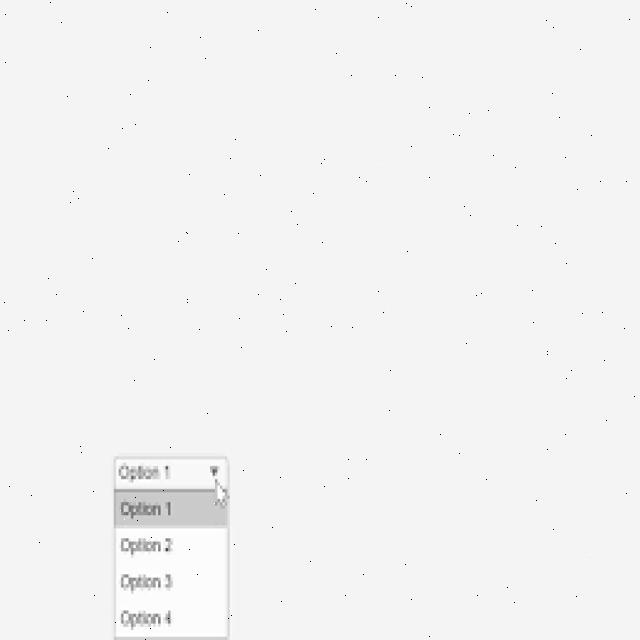dropdownMenu: (114, 456, 230, 640)
menuItem: (114, 492, 229, 526), (119, 608, 174, 631), (119, 535, 175, 557), (119, 572, 175, 593)
